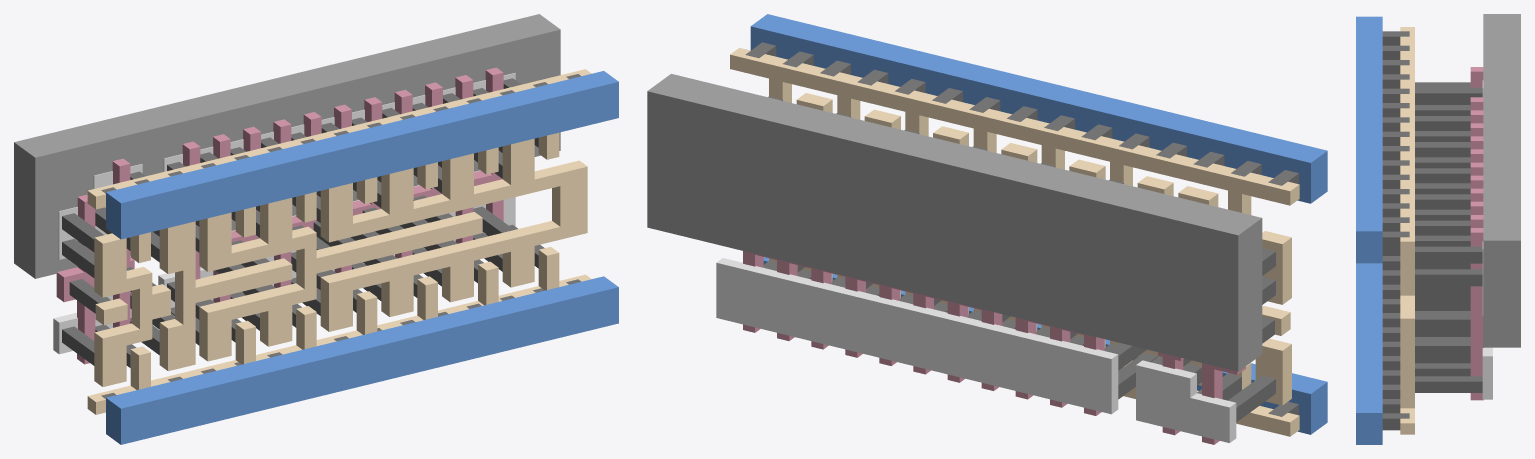
The model's file is sky130_fd_sc_hd__bufbuf_8.gds.gltf.
3 renders of one model, left to right at view 1: azimuth 30°, elevation 25°; view 2: azimuth 150°, elevation 25°; view 3: azimuth 270°, elevation 25°, orthographic. The views are drawn at different scales.
Parts seen in each view (by area): view 1: sky130_fd_sc_hd__bufbuf_8_li1, sky130_fd_sc_hd__bufbuf_8_met1, sky130_fd_sc_hd__bufbuf_8_nwell, sky130_fd_sc_hd__bufbuf_8_licon, sky130_fd_sc_hd__bufbuf_8_poly, sky130_fd_sc_hd__bufbuf_8_diff, sky130_fd_sc_hd__bufbuf_8_mcon; view 2: sky130_fd_sc_hd__bufbuf_8_nwell, sky130_fd_sc_hd__bufbuf_8_diff, sky130_fd_sc_hd__bufbuf_8_li1, sky130_fd_sc_hd__bufbuf_8_met1, sky130_fd_sc_hd__bufbuf_8_poly, sky130_fd_sc_hd__bufbuf_8_licon, sky130_fd_sc_hd__bufbuf_8_mcon; view 3: sky130_fd_sc_hd__bufbuf_8_licon, sky130_fd_sc_hd__bufbuf_8_nwell, sky130_fd_sc_hd__bufbuf_8_met1, sky130_fd_sc_hd__bufbuf_8_mcon, sky130_fd_sc_hd__bufbuf_8_li1, sky130_fd_sc_hd__bufbuf_8_poly, sky130_fd_sc_hd__bufbuf_8_diff.
Boxes of the visible parts, left/top/right/bottom form: sky130_fd_sc_hd__bufbuf_8_li1: left=87, top=69, right=591, bottom=414; sky130_fd_sc_hd__bufbuf_8_met1: left=106, top=71, right=618, bottom=444; sky130_fd_sc_hd__bufbuf_8_nwell: left=14, top=14, right=560, bottom=278; sky130_fd_sc_hd__bufbuf_8_licon: left=62, top=78, right=544, bottom=367; sky130_fd_sc_hd__bufbuf_8_poly: left=56, top=67, right=503, bottom=364; sky130_fd_sc_hd__bufbuf_8_diff: left=53, top=73, right=515, bottom=354; sky130_fd_sc_hd__bufbuf_8_mcon: left=101, top=74, right=581, bottom=398; sky130_fd_sc_hd__bufbuf_8_nwell: left=647, top=73, right=1262, bottom=371; sky130_fd_sc_hd__bufbuf_8_diff: left=716, top=258, right=1236, bottom=442; sky130_fd_sc_hd__bufbuf_8_li1: left=730, top=48, right=1299, bottom=436; sky130_fd_sc_hd__bufbuf_8_met1: left=750, top=14, right=1327, bottom=434; sky130_fd_sc_hd__bufbuf_8_poly: left=743, top=251, right=1245, bottom=444; sky130_fd_sc_hd__bufbuf_8_licon: left=763, top=96, right=1275, bottom=422; sky130_fd_sc_hd__bufbuf_8_mcon: left=745, top=42, right=1298, bottom=416; sky130_fd_sc_hd__bufbuf_8_licon: left=1415, top=82, right=1482, bottom=392; sky130_fd_sc_hd__bufbuf_8_nwell: left=1483, top=14, right=1520, bottom=347; sky130_fd_sc_hd__bufbuf_8_met1: left=1356, top=16, right=1382, bottom=444; sky130_fd_sc_hd__bufbuf_8_mcon: left=1382, top=31, right=1409, bottom=430; sky130_fd_sc_hd__bufbuf_8_li1: left=1400, top=27, right=1414, bottom=434; sky130_fd_sc_hd__bufbuf_8_poly: left=1470, top=67, right=1483, bottom=400; sky130_fd_sc_hd__bufbuf_8_diff: left=1482, top=80, right=1492, bottom=399.
Size of the model in its own units: 7.28 by 3.2 by 2.24.
